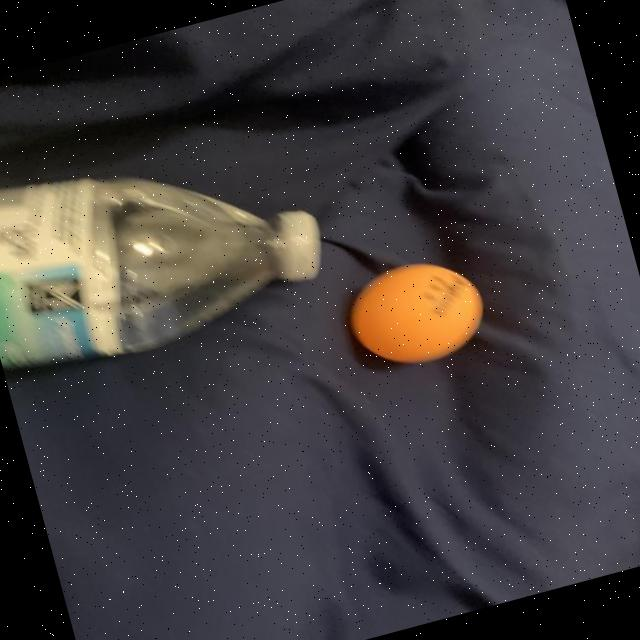ping-pong-ball: (326, 237, 504, 389)
